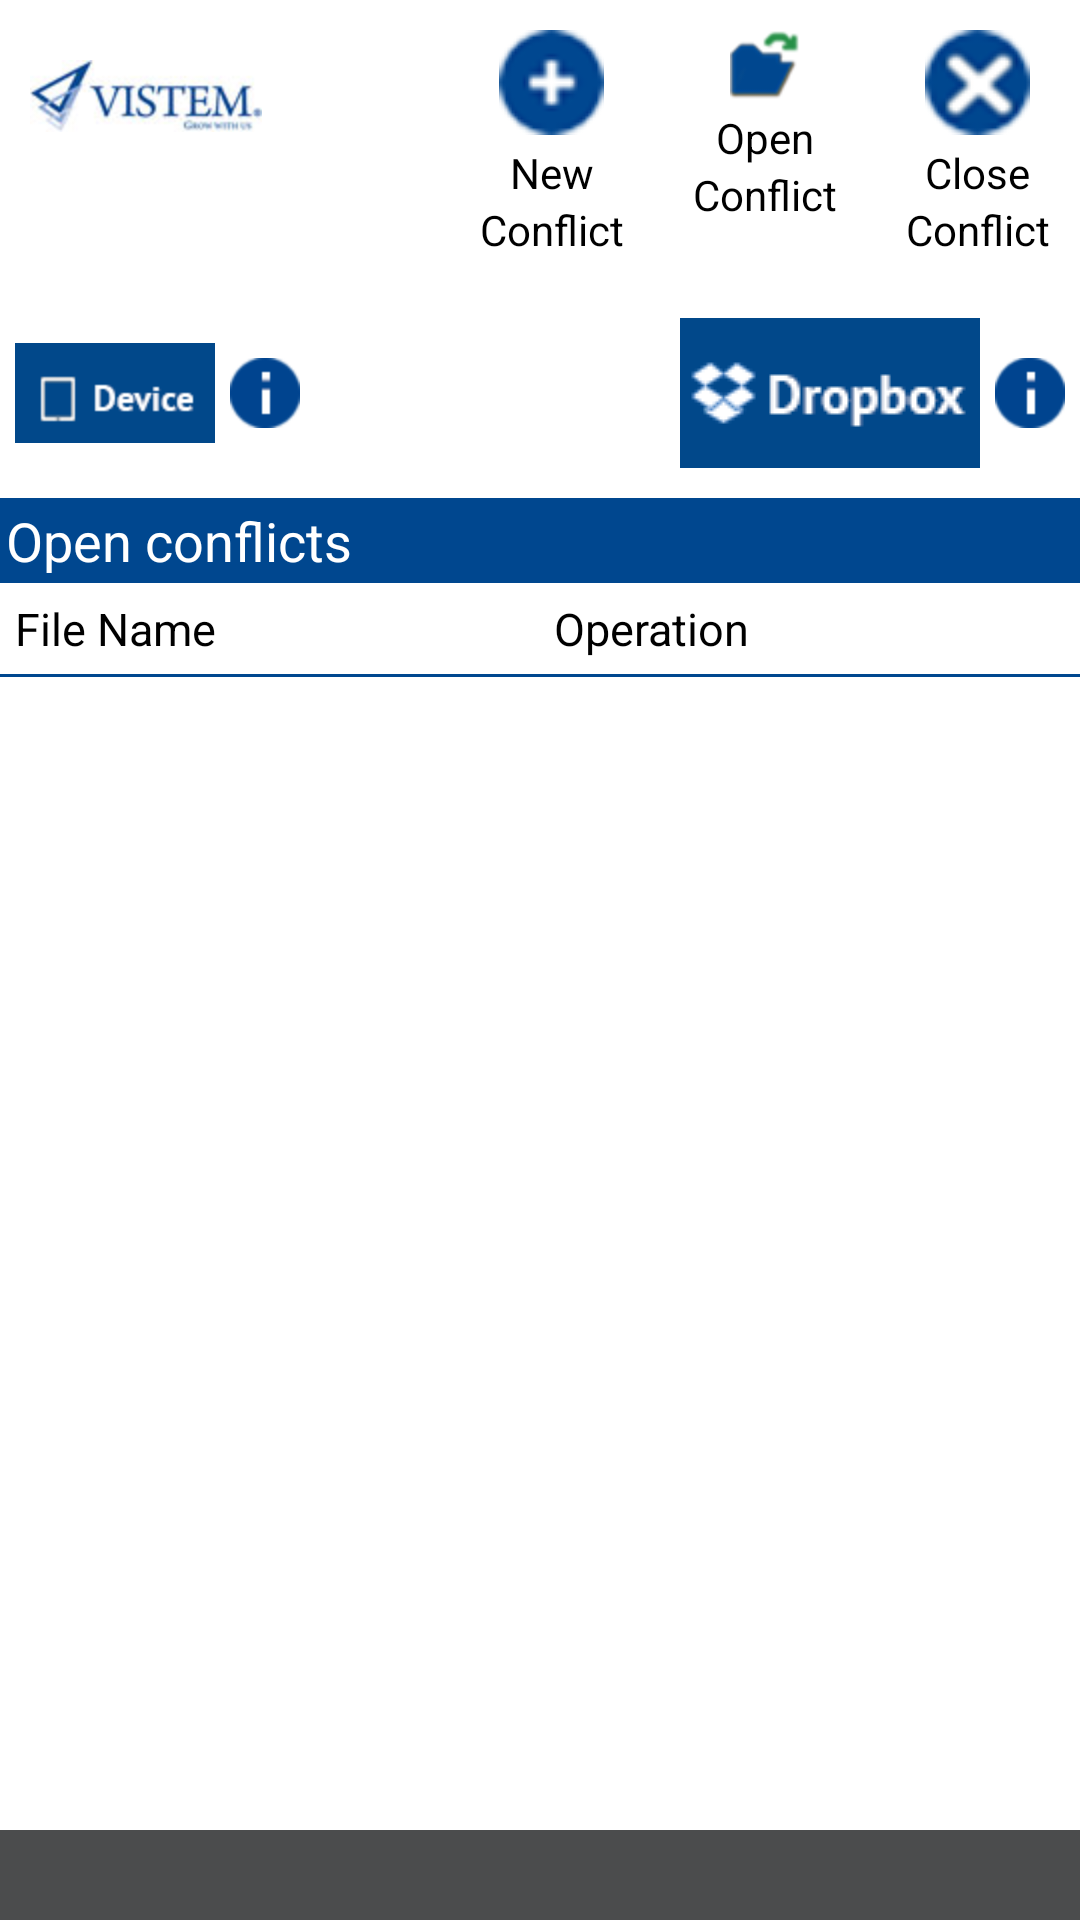

Locate icon controls on the screen. Image size 1080px x 1920px, boxes as bbox(x1, y1, x2, y2).
hintt: bbox(230, 358, 300, 428), bbox(995, 358, 1065, 428)
